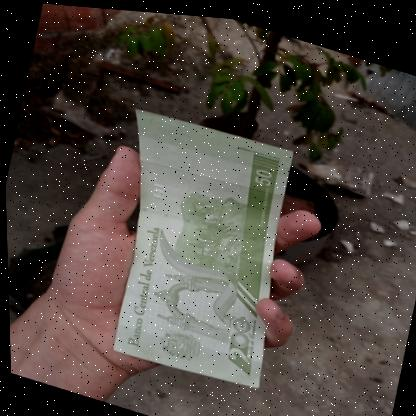fifty-back-vef: (79, 96, 311, 394)
